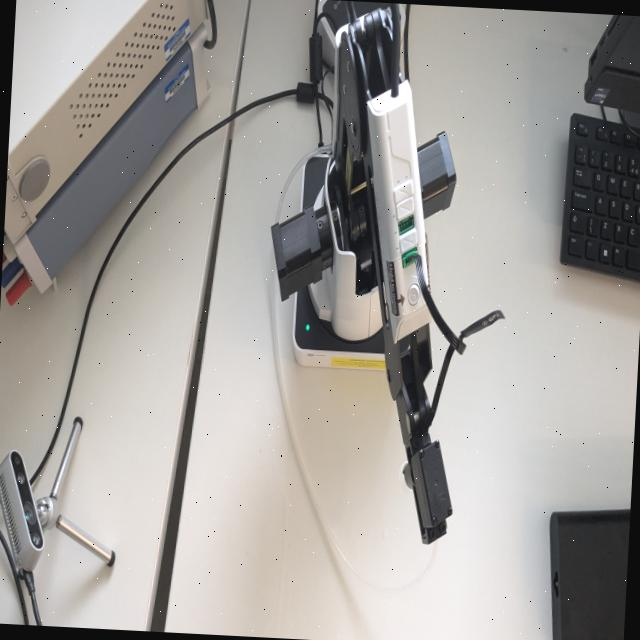Robot-end-effector-HF8z: (392, 432, 458, 548)
